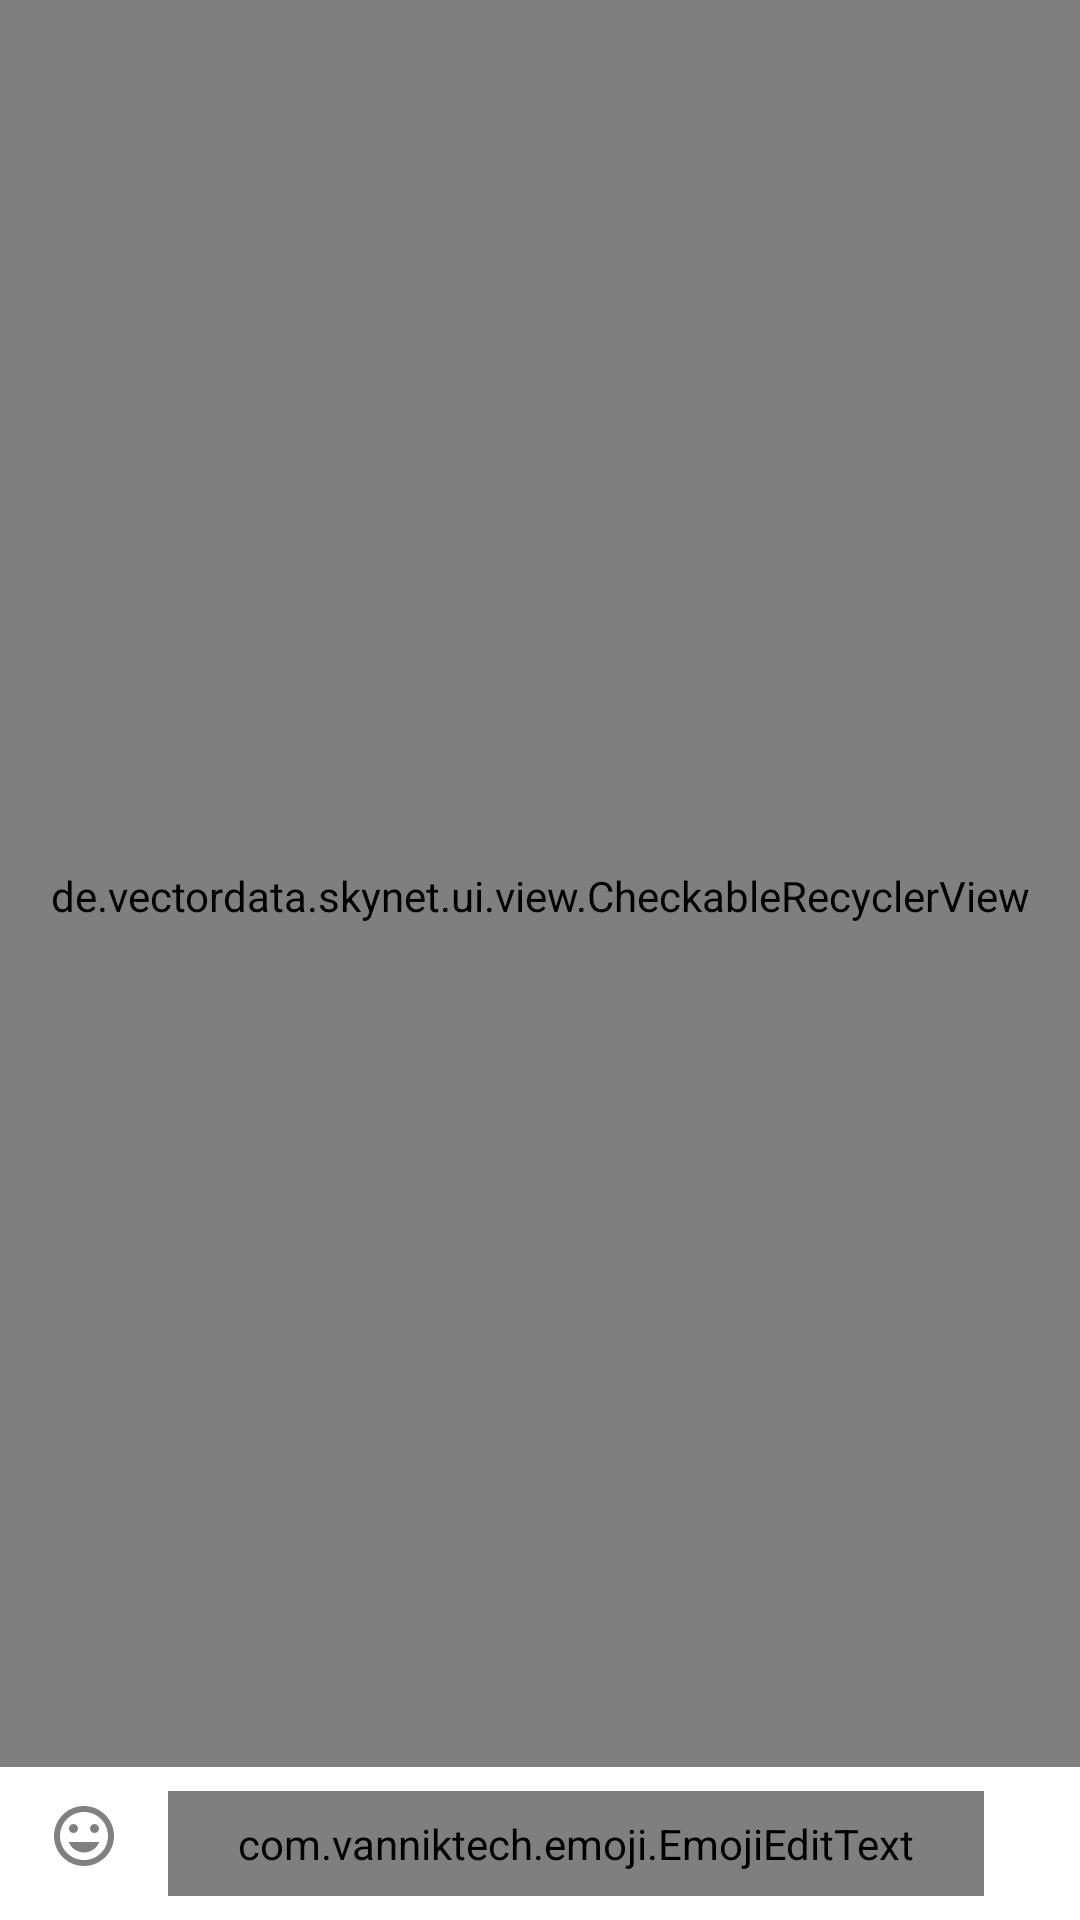

Point at icon controls on the screen. Image size 1080*1920, points as point (x, y).
insert emoji: point (84, 1836)
